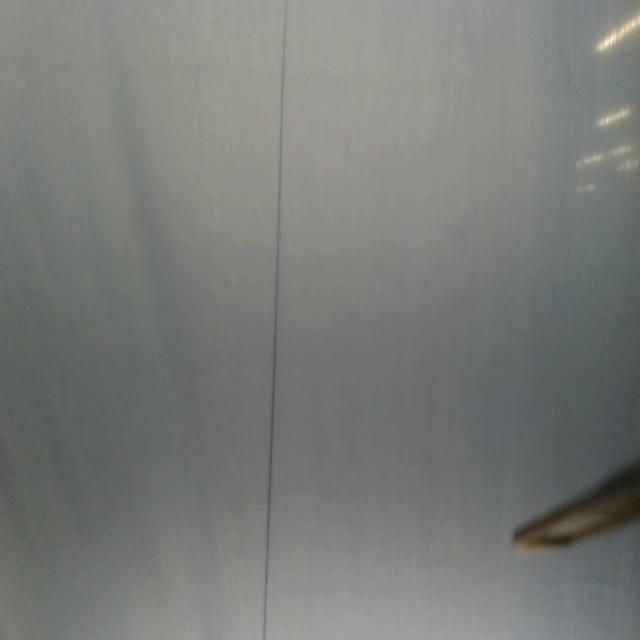crease: (258, 0, 290, 640)
